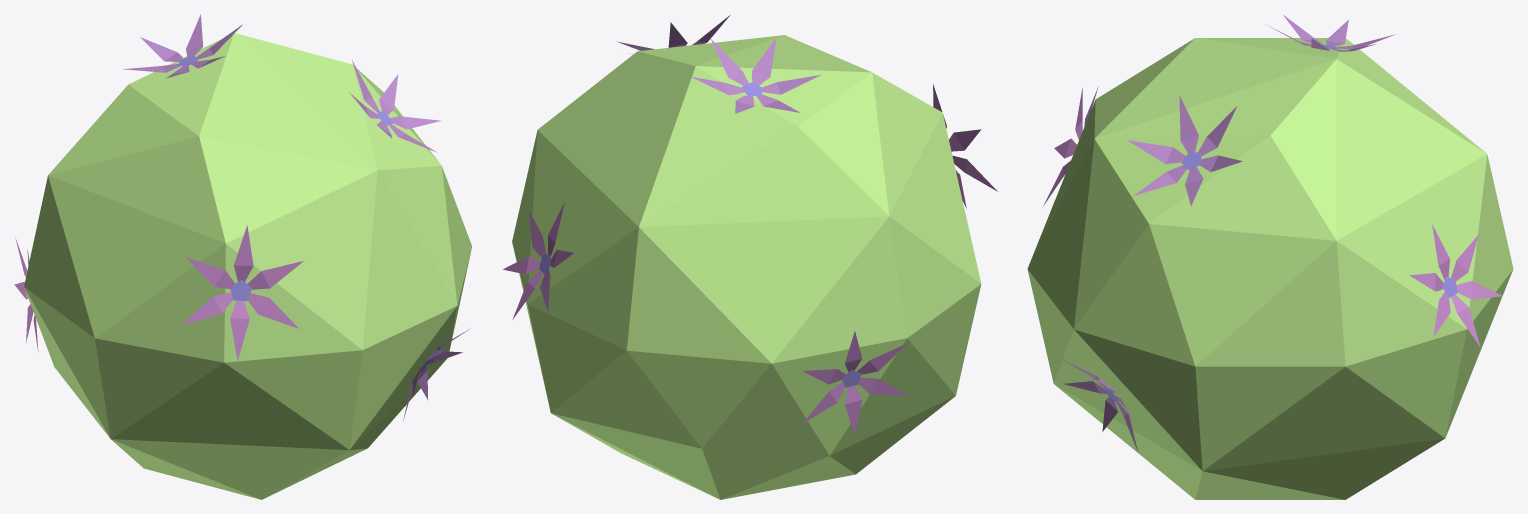
Rendered from FlowerBush_g_m_01.fbx.
The picture shows the model from 3 angles, left to right: view 1: azimuth 30°, elevation 25°; view 2: azimuth 150°, elevation 25°; view 3: azimuth 270°, elevation 25°; orthographic projection. The views are drawn at different scales.
Visible parts, largest first — view 1: FlowerBush_g_m_01; view 2: FlowerBush_g_m_01; view 3: FlowerBush_g_m_01.
Part boxes in pixels (<box>): FlowerBush_g_m_01: <box>14,14,471,499</box>; FlowerBush_g_m_01: <box>503,15,997,499</box>; FlowerBush_g_m_01: <box>1027,15,1513,499</box>.
Bounding box in the file's own units: 108 × 116 × 112.
